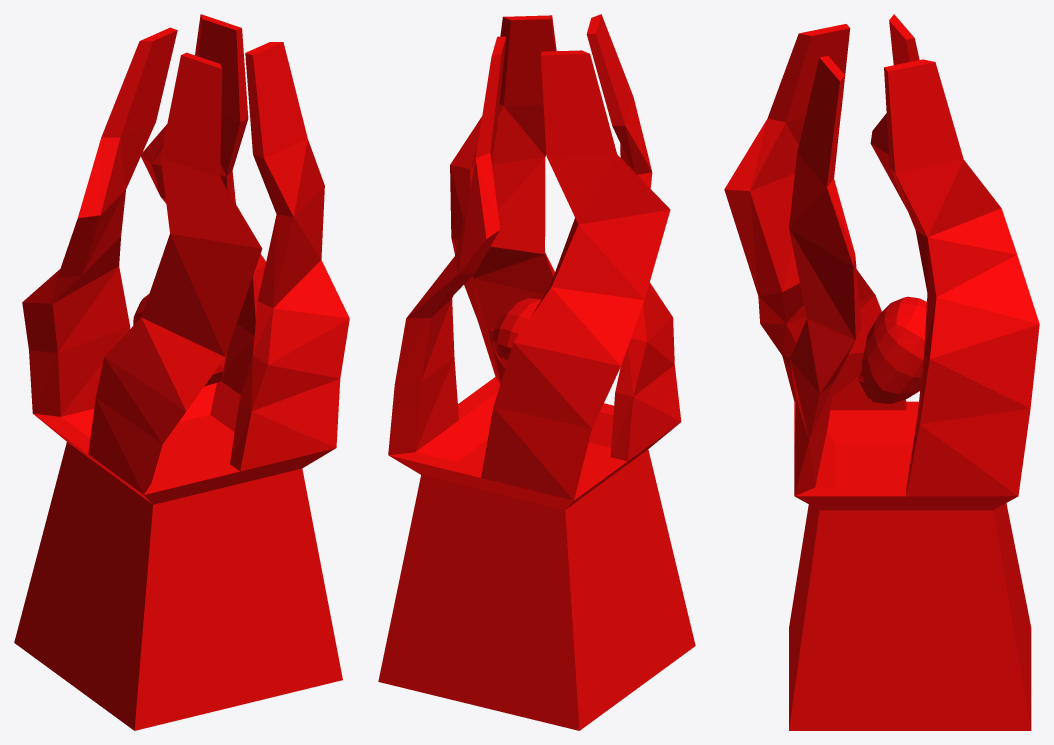
File: statua-2.dae
3 views of the same model, side by side, from view 1: azimuth 30°, elevation 25°; view 2: azimuth 150°, elevation 25°; view 3: azimuth 270°, elevation 25° (orthographic). The views are drawn at different scales.
Visible parts, largest first — view 1: Cube; view 2: Cube; view 3: Cube.
Boxes of the visible parts, bbox=[...] form: Cube: bbox=[14, 14, 349, 730]; Cube: bbox=[378, 14, 695, 730]; Cube: bbox=[724, 14, 1039, 730].
Size of the model in its own units: 2.38 by 2.6 by 5.85.
